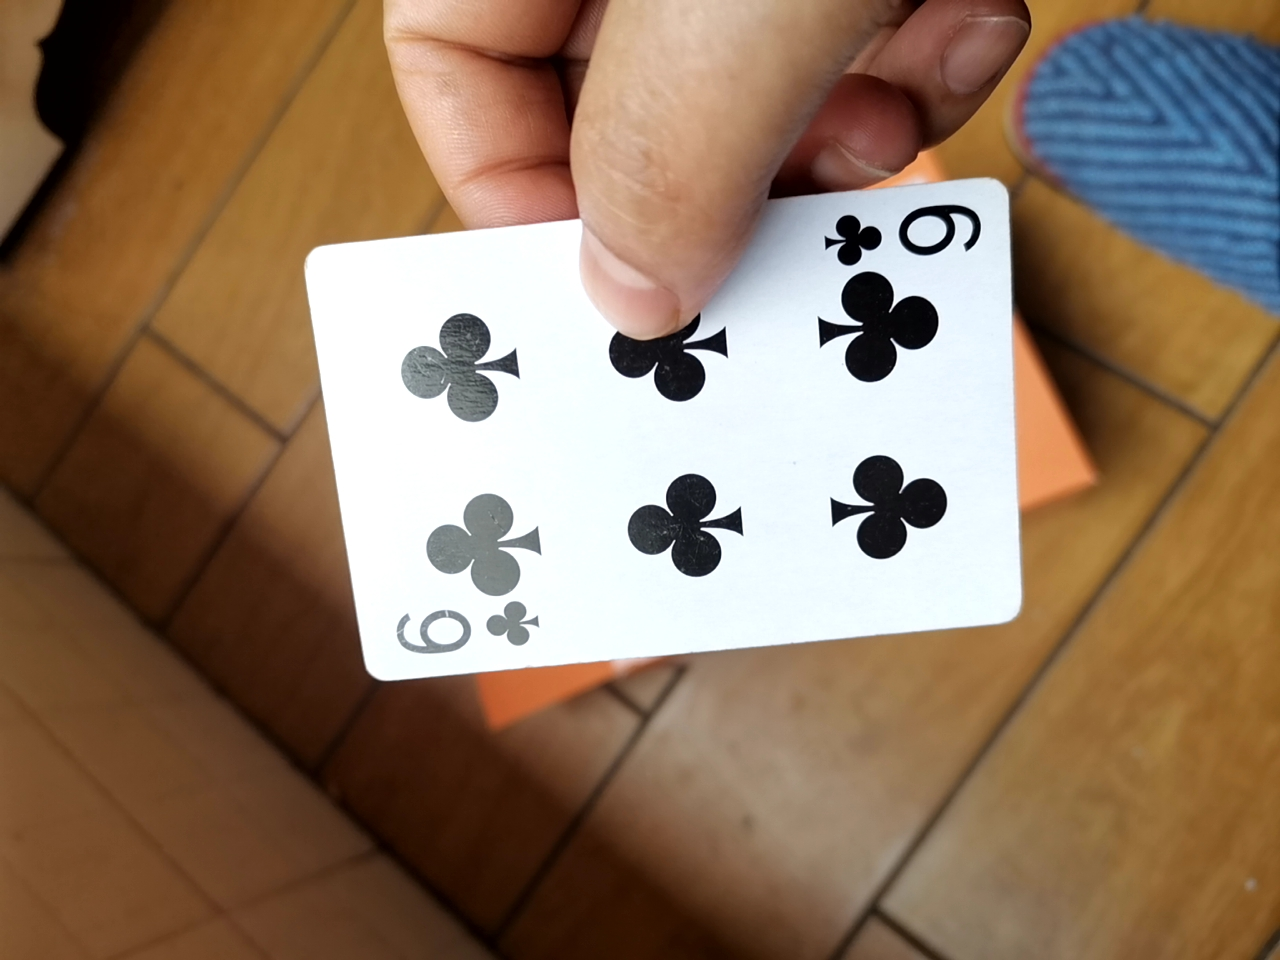mh 6: (283, 168, 1015, 688)
